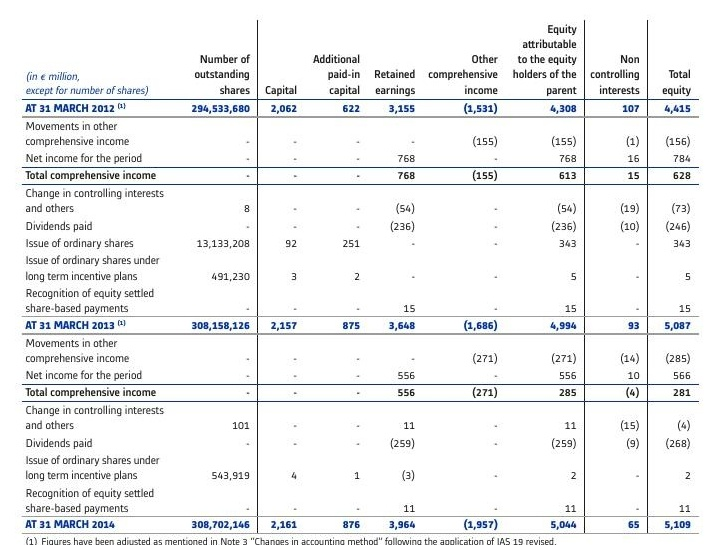table: (0, 0, 719, 545)
